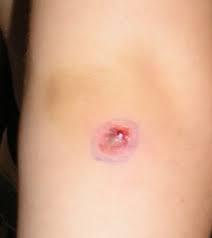Spider: (90, 114, 138, 165)
